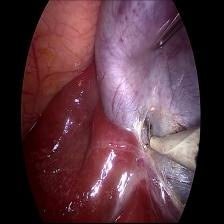Grasper: (147, 1, 188, 60)
Hook: (142, 114, 203, 173)
